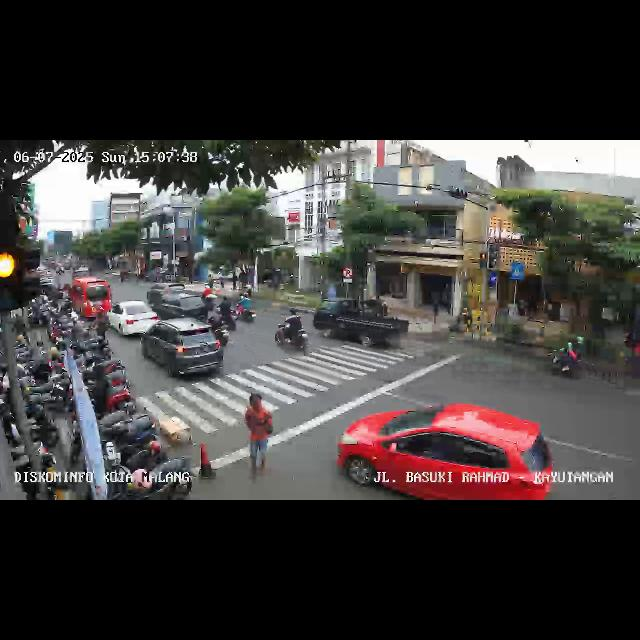car: (339, 404, 555, 500), (141, 321, 225, 382), (316, 297, 406, 353), (65, 276, 112, 320), (108, 300, 158, 340), (154, 294, 212, 322), (145, 282, 185, 306)
motorcycle: (274, 308, 310, 352), (550, 340, 586, 384), (207, 308, 230, 348), (234, 291, 258, 325), (214, 296, 238, 330), (200, 284, 216, 312)
person: (241, 392, 273, 470)
